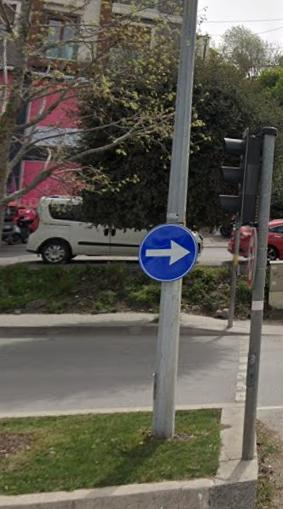turnright: (140, 224, 198, 283)
